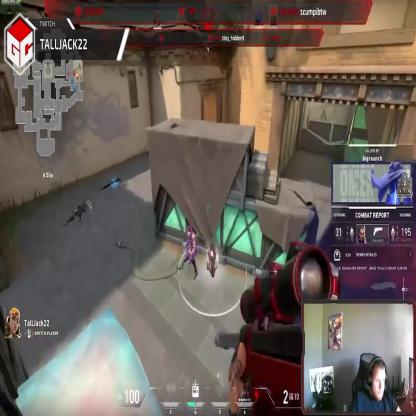enemy: (182, 224, 198, 280)
enemy_head: (187, 226, 192, 236)
